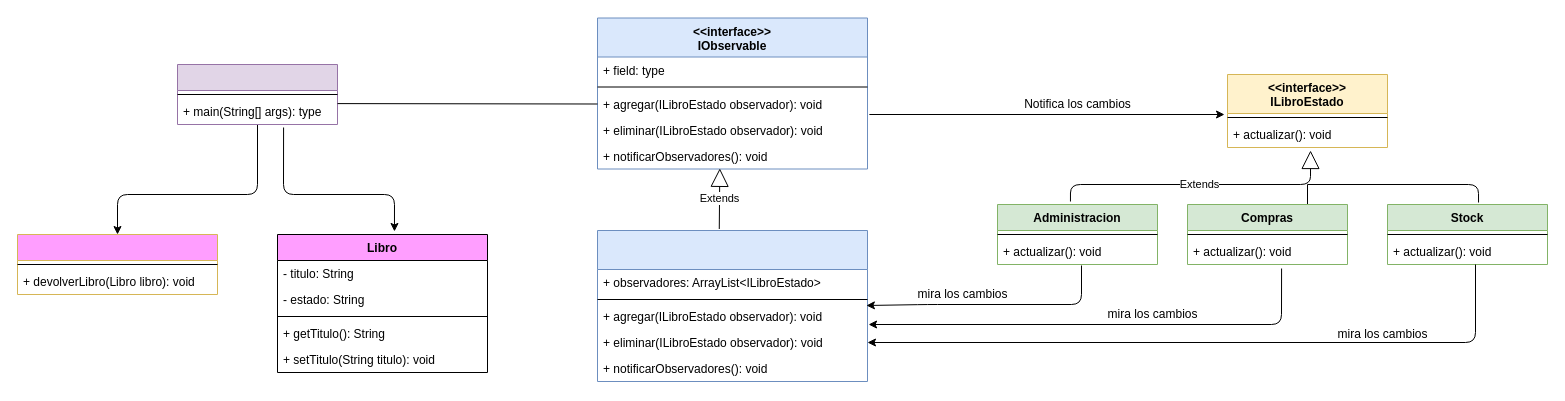
Some shapes in this 1565 by 401 pixel diagram are drawn without their labels. Each missing label, with the box of its shape:
Biblioteca: (16, 234, 218, 294)
Cliente: (176, 64, 338, 124)
NotificarEstadoLibro: (596, 230, 868, 382)
